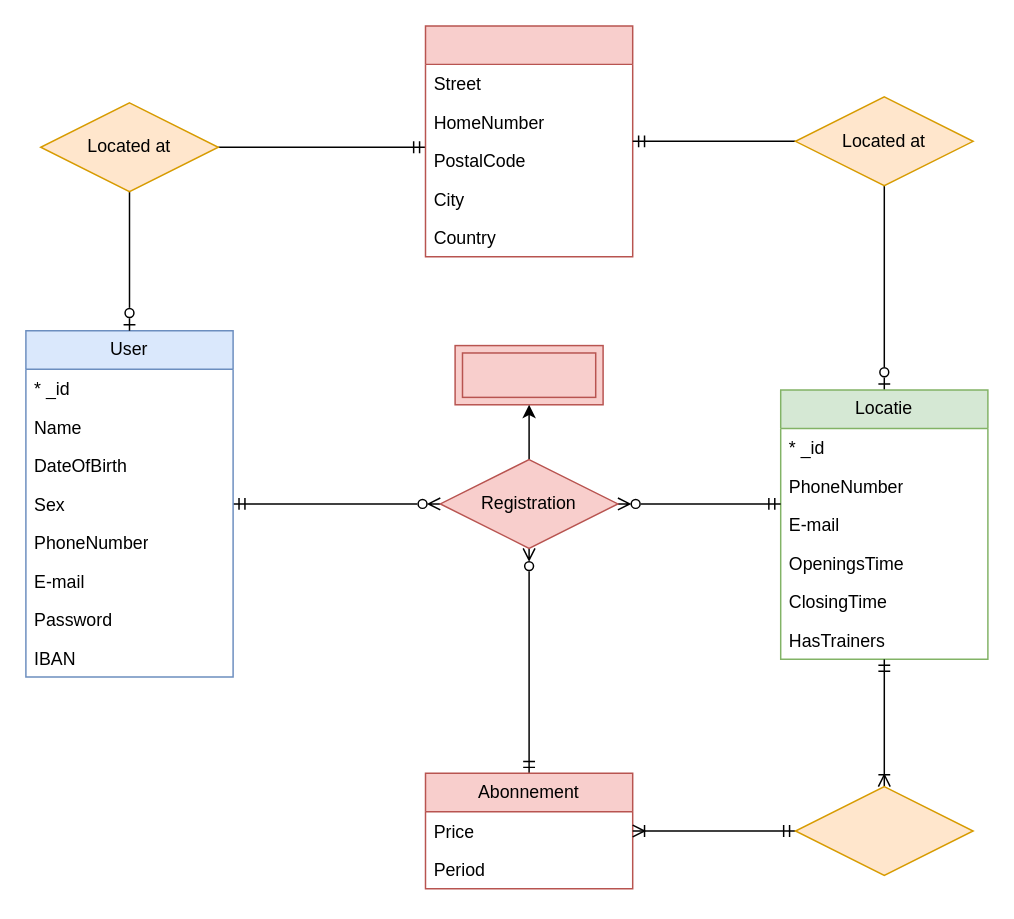
Some shapes in this 1014 by 919 pixel diagram are drawn without their labels. Each missing label, with the box of its shape:
Adres: (424, 24, 633, 257)
date: (454, 344, 603, 405)
Has: (794, 785, 973, 875)
